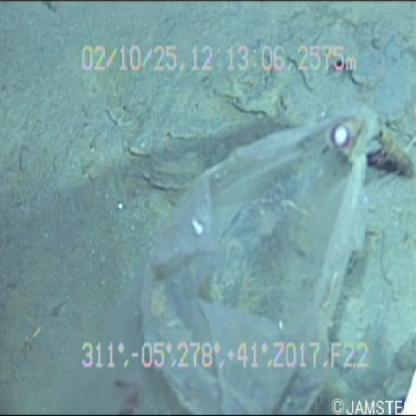Rác: (134, 82, 386, 416)
